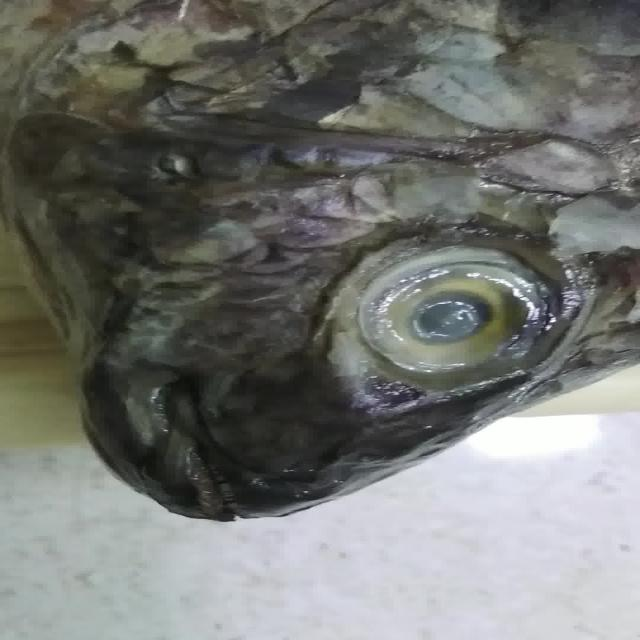Non-Fresh: (360, 233, 551, 388)
